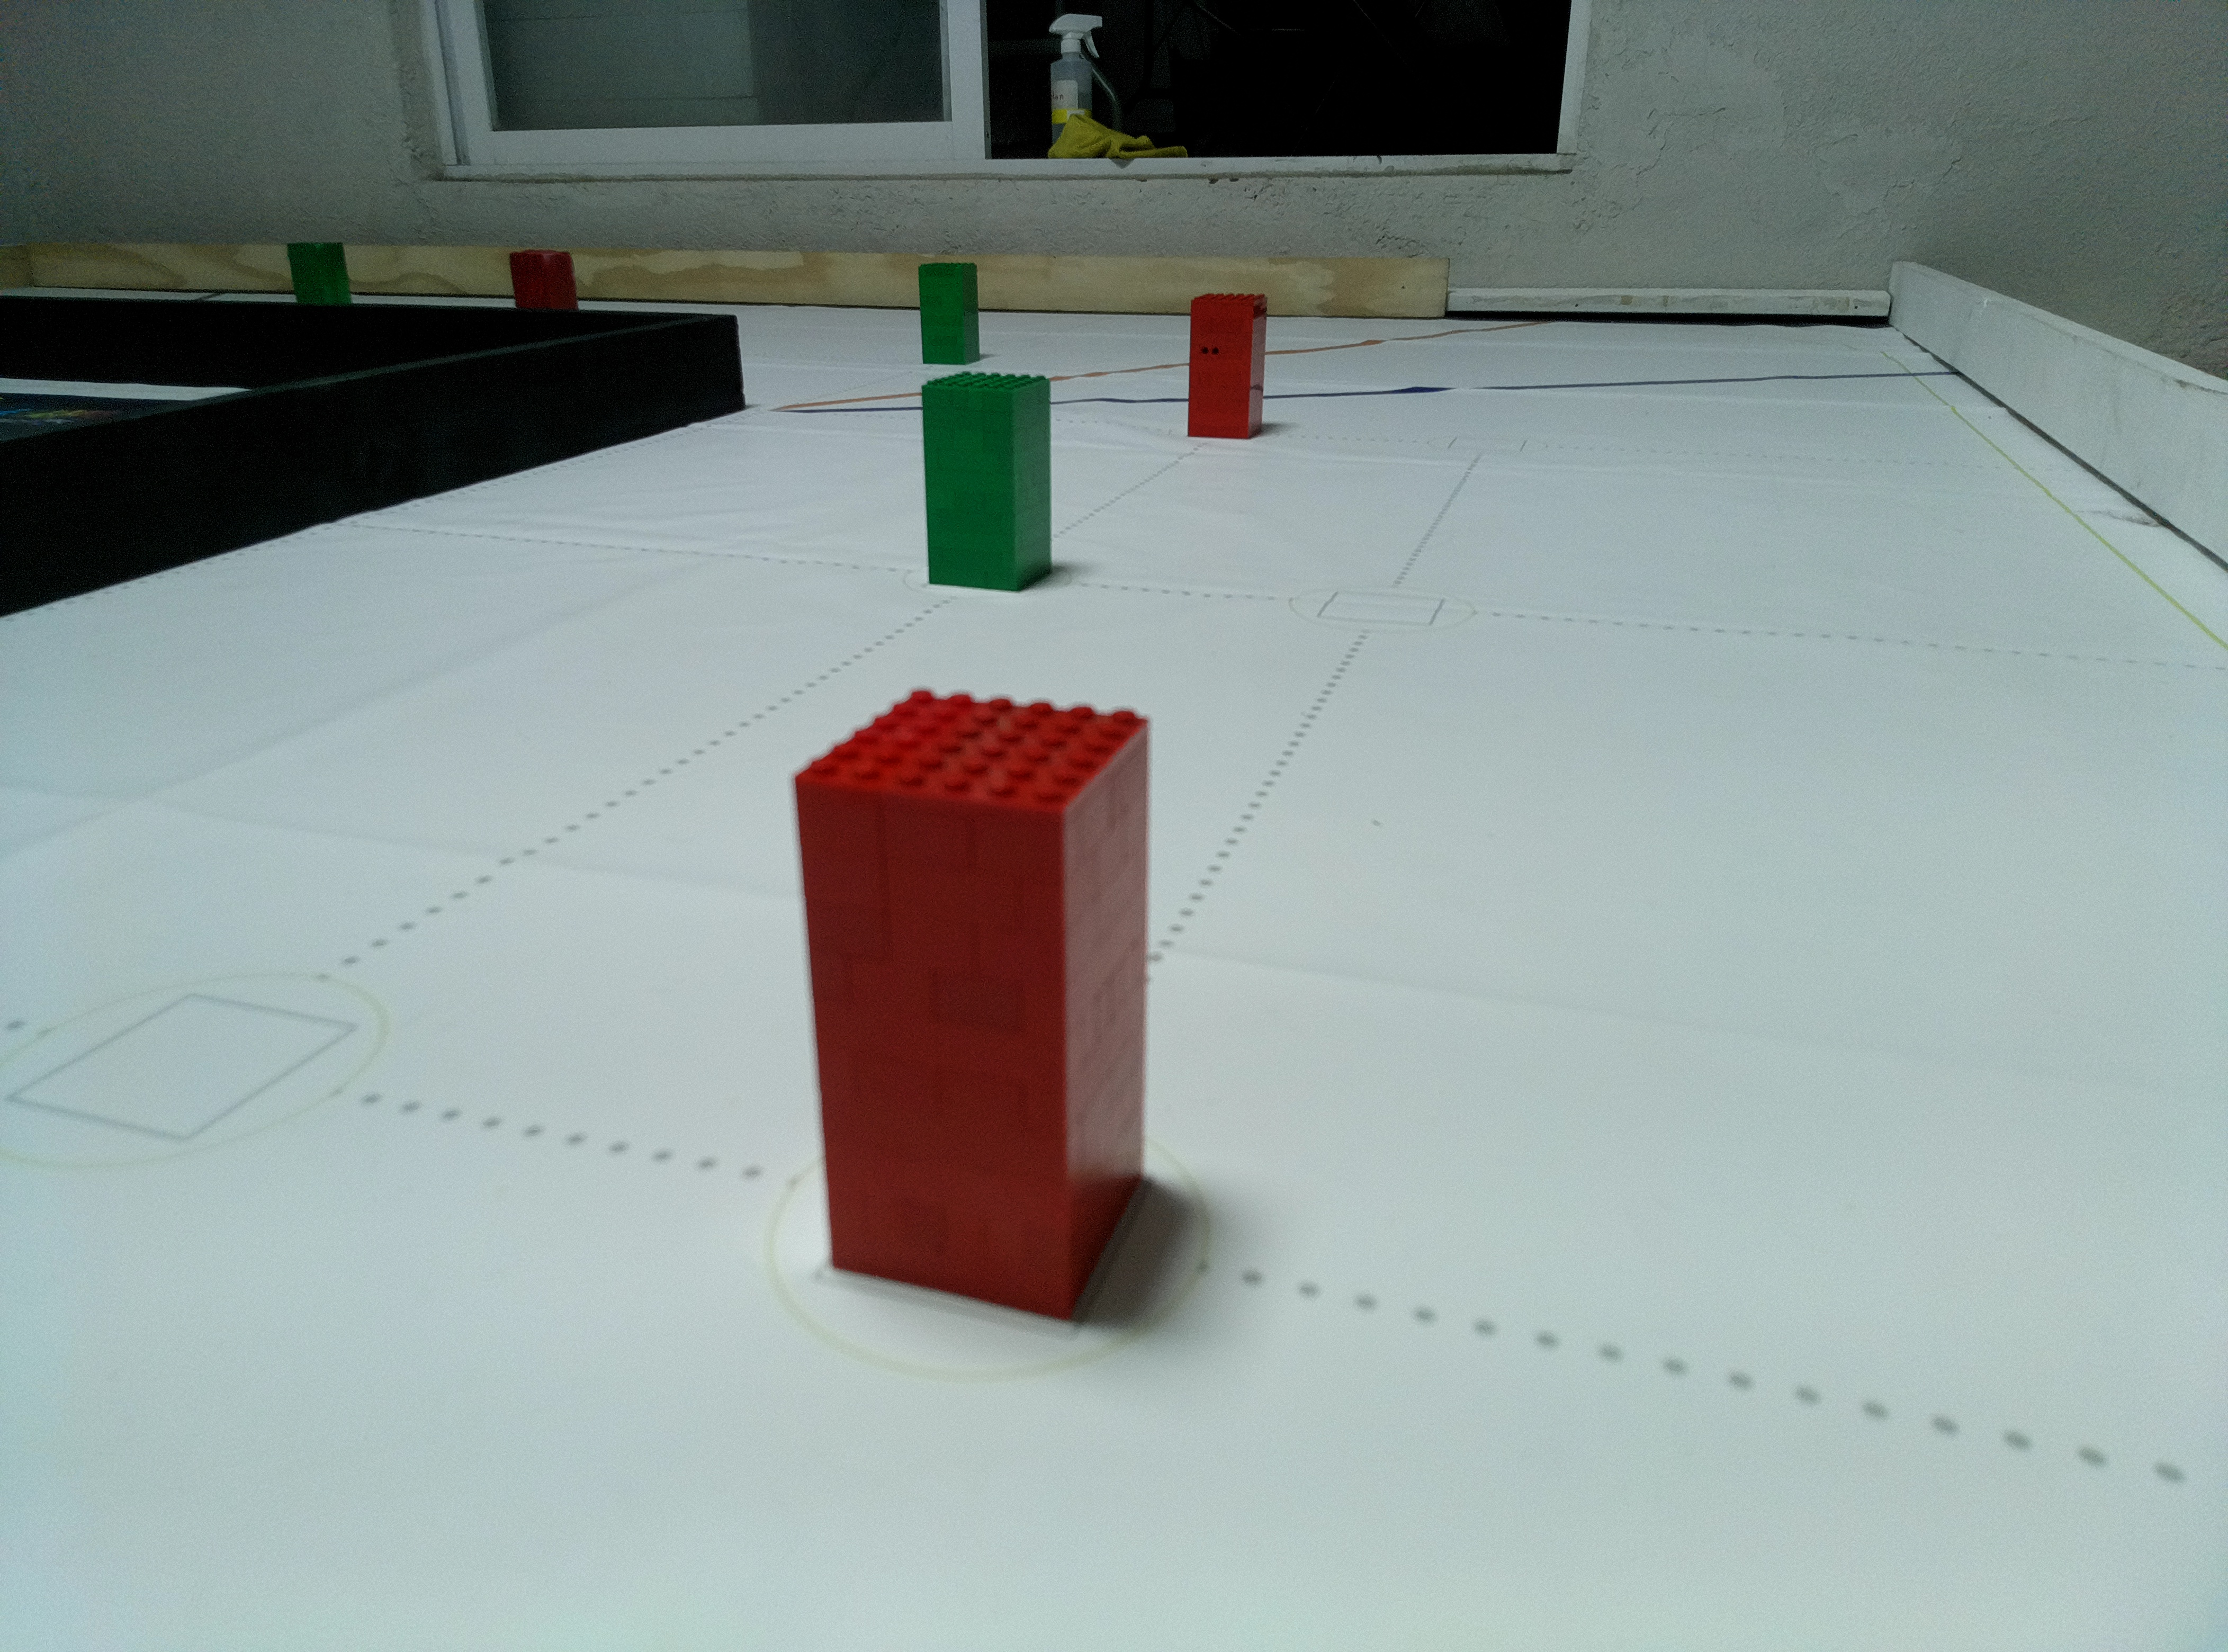greenbox: (916, 370, 1055, 593), (918, 260, 982, 366), (285, 239, 356, 304)
redbox: (786, 680, 1152, 1327), (1187, 292, 1270, 441), (508, 250, 581, 309)
